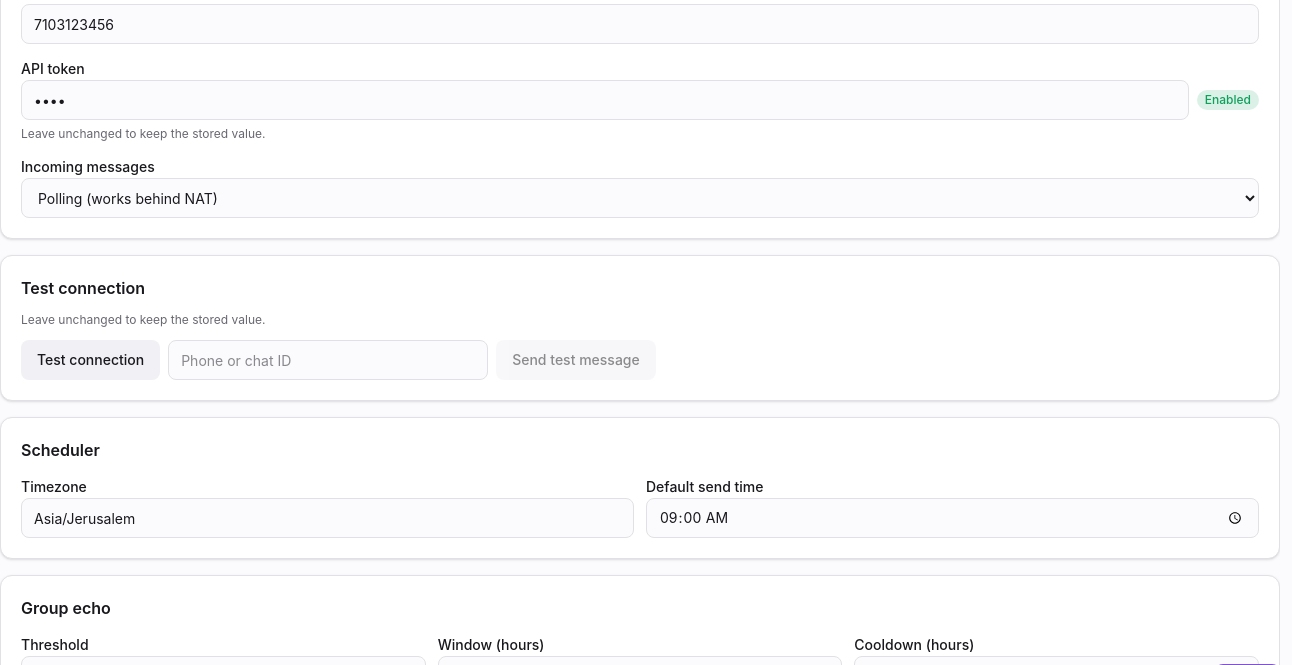
provider tools › sends a test message to the number given and shows where it landed
(page scrolled)
Type "972500000001" into the field with placeholder "Phone or chat ID" at [328, 360], box [168,340,488,380]
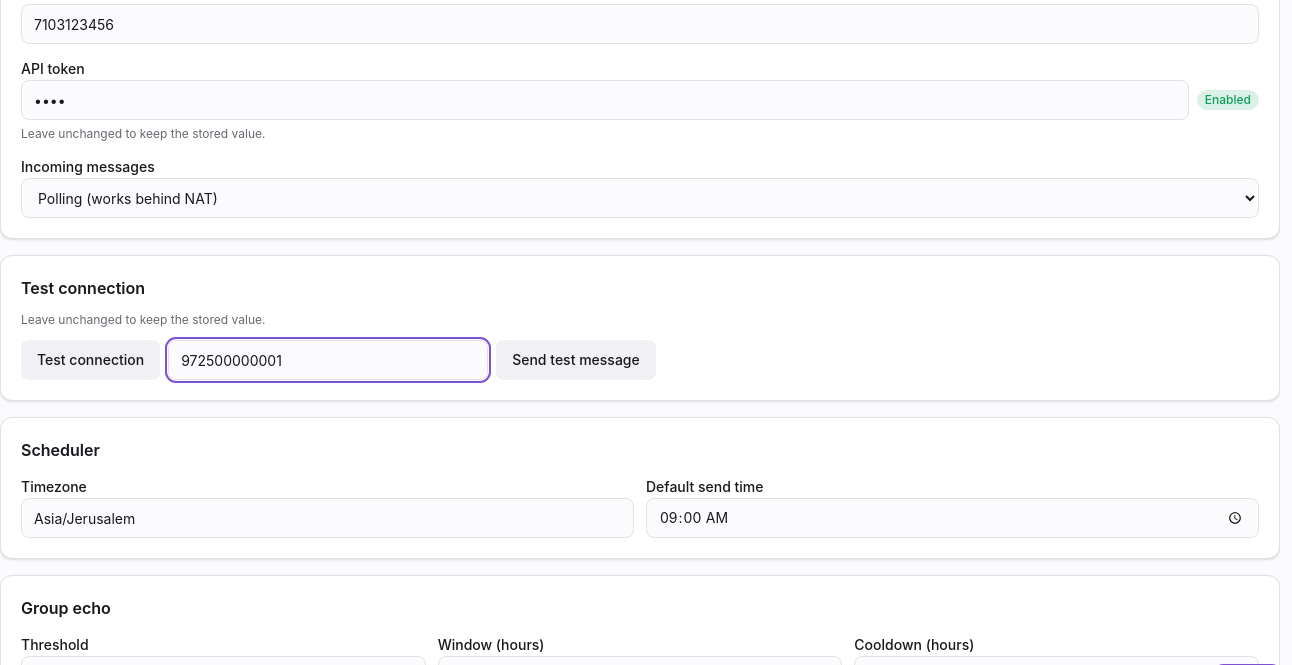
Click the button "Send test message" at [576, 360], box [496,340,656,380]
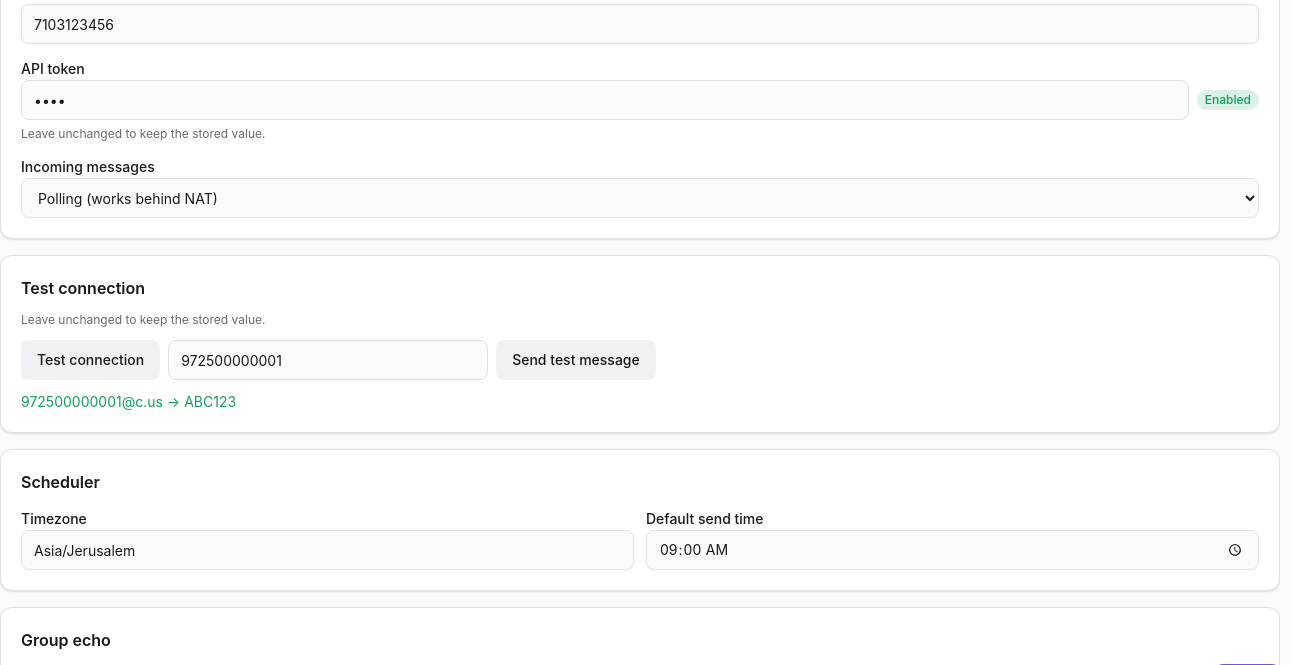
Now the text "972500000001@c.us → ABC123" is shown, box [21,393,236,410]
